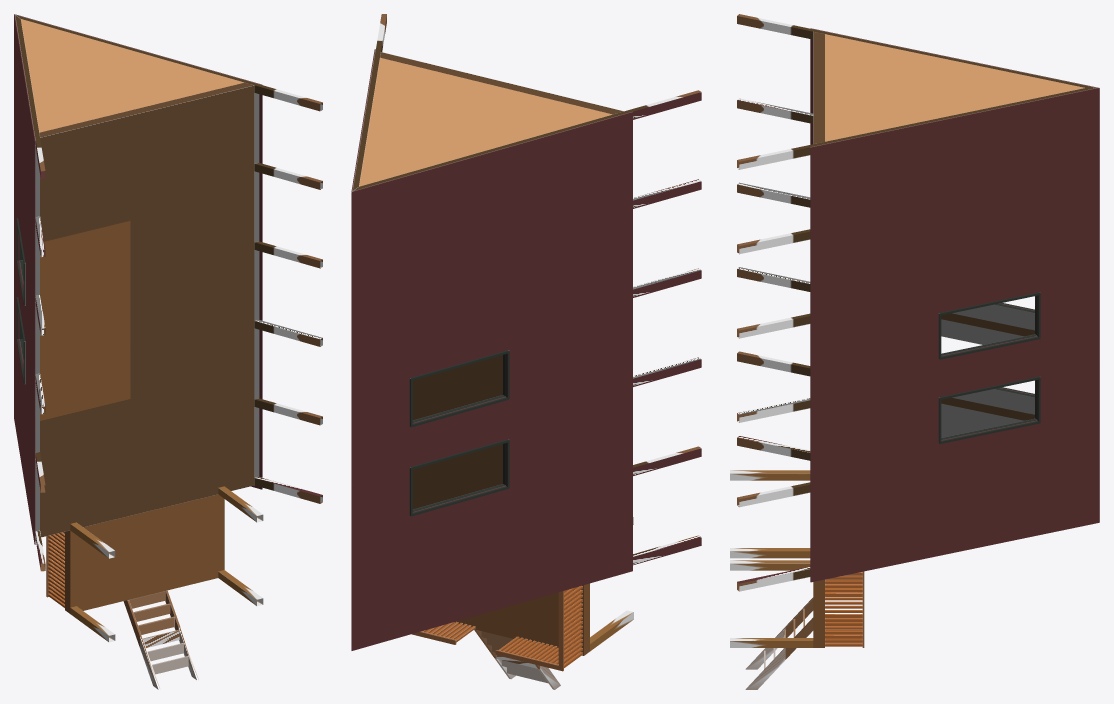
File: GUPO_CABIN_06.fbx
3 views of the same model, side by side, from view 1: azimuth 30°, elevation 25°; view 2: azimuth 150°, elevation 25°; view 3: azimuth 270°, elevation 25° (orthographic). The views are drawn at different scales.
Parts seen in each view (by area): view 1: cabin; view 2: cabin; view 3: cabin.
Boxes of the visible parts, x1=… form: cabin: x1=14, y1=14, x2=322, y2=689; cabin: x1=351, y1=14, x2=701, y2=689; cabin: x1=730, y1=14, x2=1099, y2=689.
Size of the model in its own units: 6928 by 7316 by 12916.
Materials: 1 (1 with a texture image).
